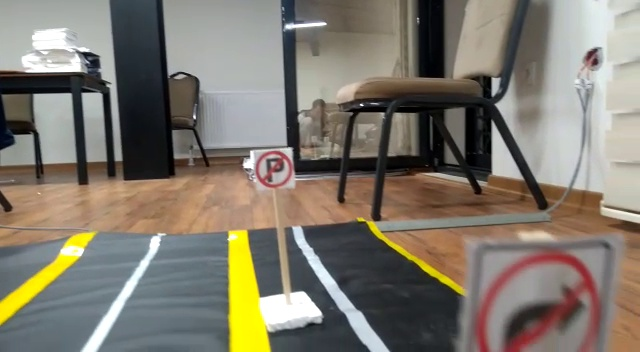park_yapilmaz: (249, 149, 296, 188)
saga_donulmez: (468, 242, 613, 352)
